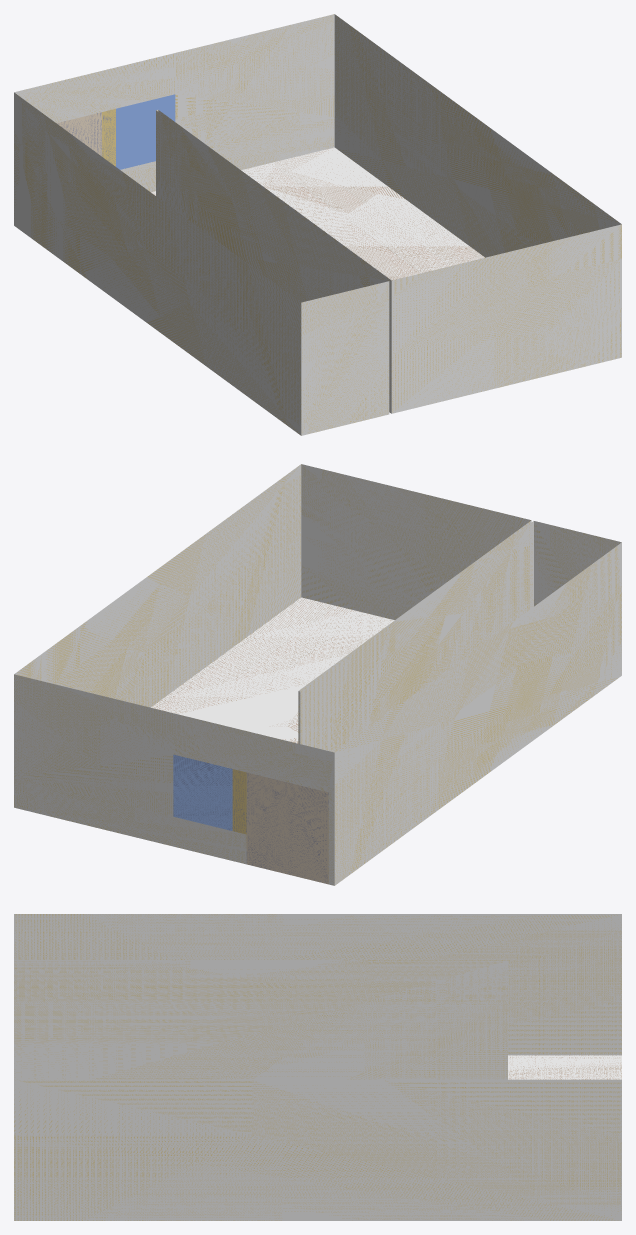
Rendered from CUA004.obj.
The picture shows the model from 3 angles, top to bottom: view 1: azimuth 30°, elevation 25°; view 2: azimuth 150°, elevation 25°; view 3: azimuth 270°, elevation 25°; orthographic projection. The views are drawn at different scales.
Parts seen in each view (by area): view 1: Mesh1 CUA004 Model; view 2: Mesh1 CUA004 Model; view 3: Mesh1 CUA004 Model.
Boxes of the visible parts, left/top/right/bottom form: Mesh1 CUA004 Model: left=14, top=14, right=621, bottom=435; Mesh1 CUA004 Model: left=14, top=464, right=621, bottom=885; Mesh1 CUA004 Model: left=14, top=914, right=621, bottom=1220.
Bounding box in the file's own units: 7.71 × 3.06 × 11.96.
6 materials, 1 textured.
